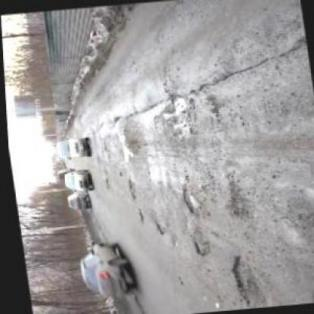Hueco: (224, 254, 258, 308), (222, 188, 248, 216), (175, 184, 198, 214), (184, 233, 211, 257), (121, 176, 137, 198), (147, 220, 162, 233), (132, 204, 141, 222)
